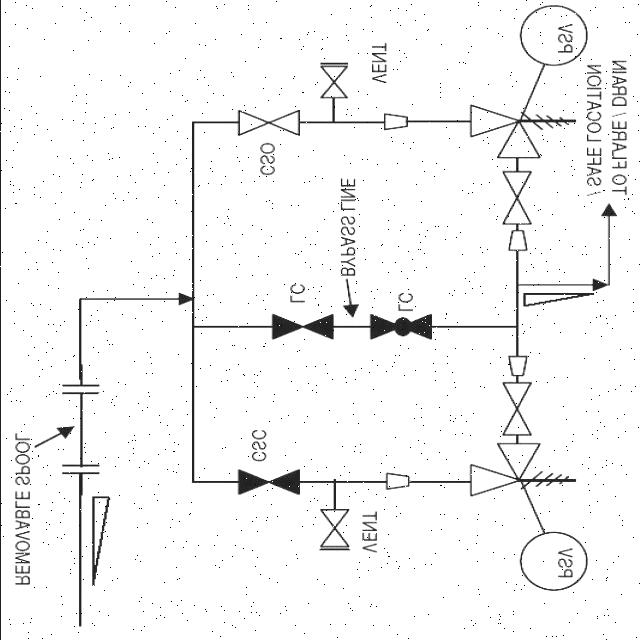Bleeder Valve: (216, 468, 310, 502), (262, 311, 337, 344)
Closed Ball Valve: (354, 313, 444, 352)
Gate Valve: (226, 102, 316, 144), (488, 172, 552, 227), (492, 384, 542, 440), (314, 63, 349, 107)
PSV: (462, 440, 596, 528), (462, 102, 582, 168)
